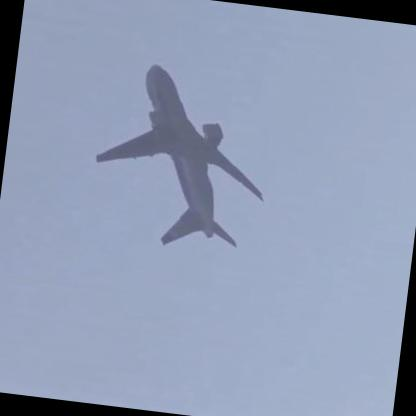plane: (86, 55, 280, 263)
